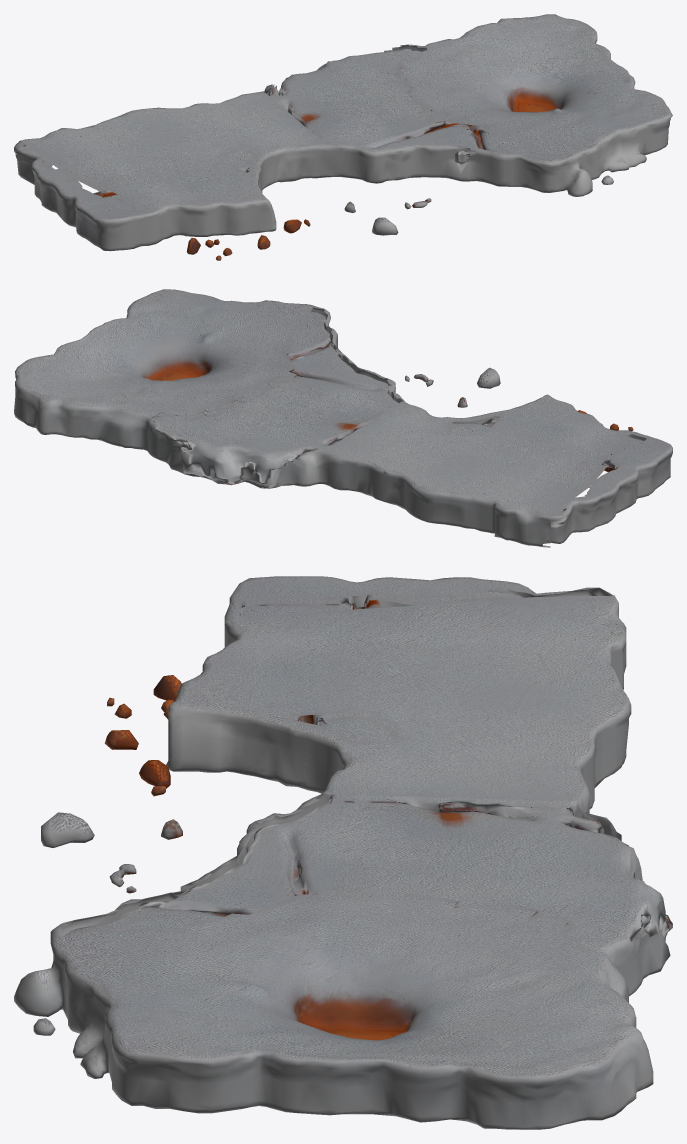
The model's file is debris_concrete_1.glb.
3 views of the same model, one above another, from view 1: azimuth 30°, elevation 25°; view 2: azimuth 150°, elevation 25°; view 3: azimuth 270°, elevation 25° (orthographic). The views are drawn at different scales.
Size of the model in its own units: 1.9 by 0.1135 by 1.05.
Materials: 1 (1 with a texture image).
